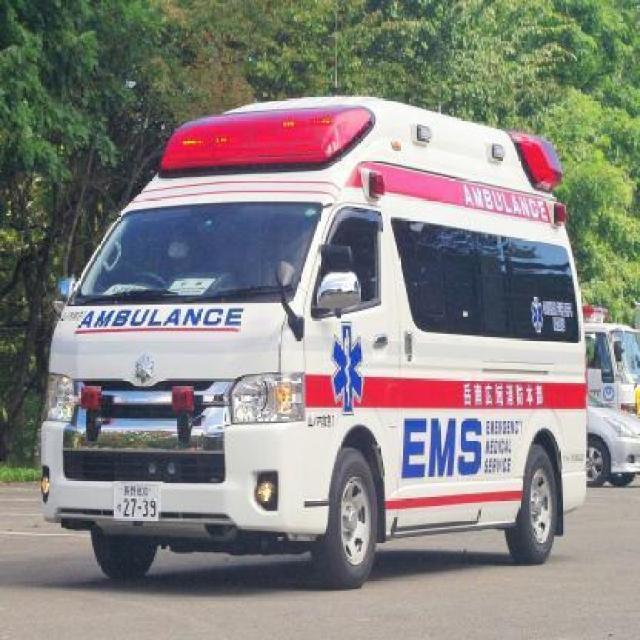emergency: (39, 95, 591, 591)
